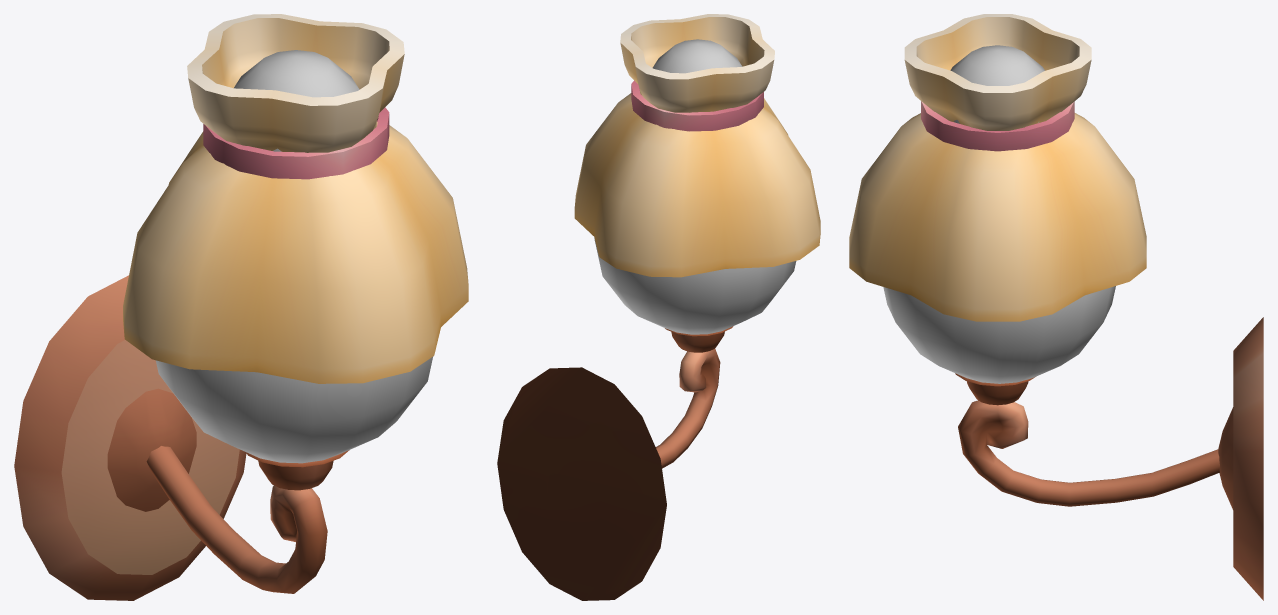
The model's file is Doll_OB_Lamp_001.FBX.
3 views of the same model, side by side, from view 1: azimuth 30°, elevation 25°; view 2: azimuth 150°, elevation 25°; view 3: azimuth 270°, elevation 25° (orthographic). The views are drawn at different scales.
Visible parts, largest first — view 1: Doll_OB_Lamp_001_1, Doll_OB_Lamp_001, Doll_OB_Lamp_001_light; view 2: Doll_OB_Lamp_001_1, Doll_OB_Lamp_001, Doll_OB_Lamp_001_light; view 3: Doll_OB_Lamp_001_1, Doll_OB_Lamp_001, Doll_OB_Lamp_001_light.
Boxes of the visible parts, x1=… form: Doll_OB_Lamp_001_1: x1=123, y1=14, x2=468, y2=383; Doll_OB_Lamp_001: x1=14, y1=275, x2=349, y2=600; Doll_OB_Lamp_001_light: x1=155, y1=50, x2=433, y2=463; Doll_OB_Lamp_001_1: x1=574, y1=14, x2=820, y2=277; Doll_OB_Lamp_001: x1=497, y1=326, x2=733, y2=600; Doll_OB_Lamp_001_light: x1=594, y1=39, x2=796, y2=334; Doll_OB_Lamp_001_1: x1=849, y1=14, x2=1146, y2=321; Doll_OB_Lamp_001: x1=955, y1=317, x2=1263, y2=600; Doll_OB_Lamp_001_light: x1=883, y1=45, x2=1115, y2=383.
Bounding box in the file's own units: 25.4 × 51.12 × 35.38.
